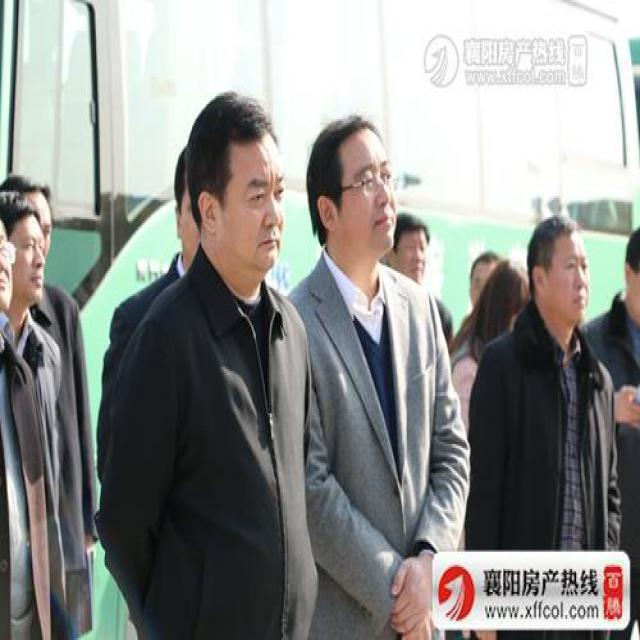head: (182, 82, 287, 287), (306, 103, 399, 268), (525, 207, 593, 339), (476, 251, 524, 343), (389, 209, 435, 284), (466, 243, 507, 326)
person: (95, 72, 301, 640), (285, 101, 471, 625), (469, 203, 619, 553)
